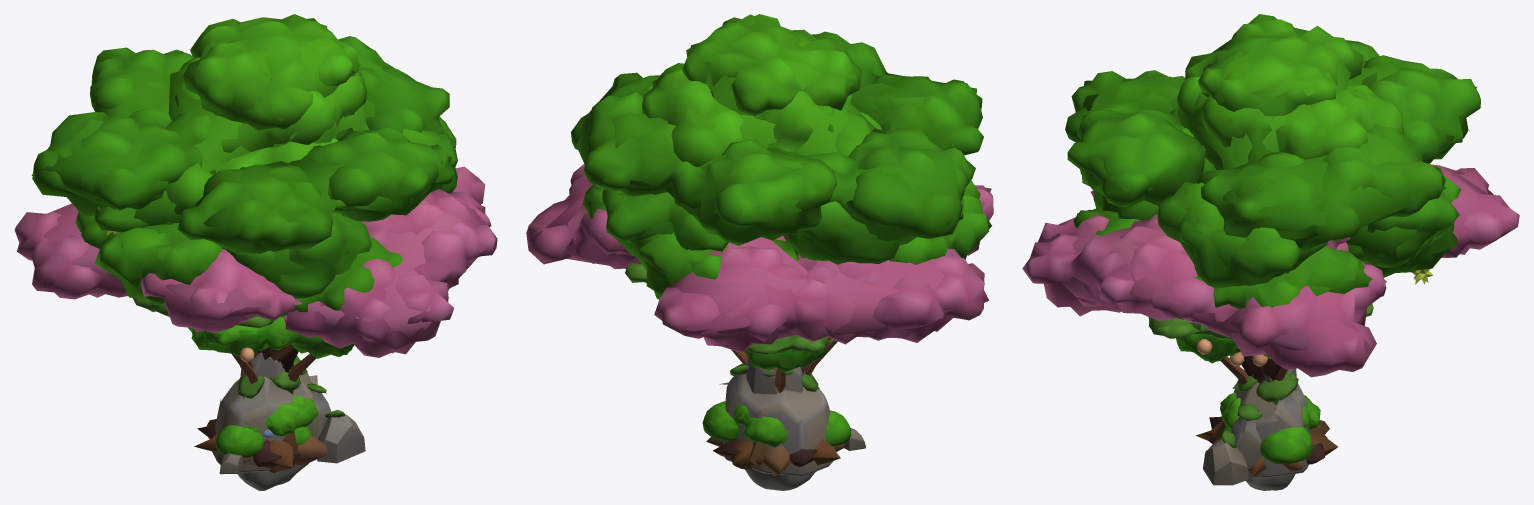
Rendered from nature.glb.
The picture shows the model from 3 angles, left to right: view 1: azimuth 30°, elevation 25°; view 2: azimuth 150°, elevation 25°; view 3: azimuth 270°, elevation 25°; orthographic projection.
Visible parts, largest first — view 1: tree_broadleaf_b, tree_sakura, tree_broadleaf_a, tree_broadleaf_b_mid, tree_chestnut, tree_sakura_mid, rock_a, tree_broadleaf_a_mid, tree_peach, bush_b, rock_b, tree_peach_mid (+7 smaller); view 2: tree_broadleaf_b, tree_sakura, tree_broadleaf_a, tree_sakura_mid, tree_broadleaf_b_mid, tree_chestnut, rock_a, tree_broadleaf_a_mid, bush_b, tree_maple, rock_a_mid, rock_b (+7 smaller); view 3: tree_broadleaf_b, tree_sakura, tree_broadleaf_a, tree_broadleaf_b_mid, tree_chestnut, tree_sakura_mid, tree_broadleaf_a_mid, rock_a, bush_b, tree_peach, rock_b, tree_chestnut_mid (+5 smaller).
Boxes of the visible parts, x1,y1,x2,y2 form: tree_broadleaf_b: (32, 14, 454, 465); tree_sakura: (14, 166, 497, 470); tree_broadleaf_a: (94, 57, 457, 454); tree_broadleaf_b_mid: (31, 18, 451, 253); tree_chestnut: (75, 138, 402, 472); tree_sakura_mid: (42, 192, 485, 462); rock_a: (212, 356, 365, 474); tree_broadleaf_a_mid: (97, 68, 452, 281); tree_peach: (191, 316, 349, 382); bush_b: (216, 425, 312, 456); rock_b: (240, 352, 330, 465); tree_peach_mid: (191, 319, 353, 378); tree_broadleaf_b: (571, 14, 983, 476); tree_sakura: (526, 164, 993, 466); tree_broadleaf_a: (602, 63, 964, 465); tree_sakura_mid: (529, 187, 991, 354); tree_broadleaf_b_mid: (576, 14, 976, 467); tree_chestnut: (582, 94, 991, 469); rock_a: (723, 363, 865, 476); tree_broadleaf_a_mid: (618, 79, 881, 263); bush_b: (702, 401, 851, 446); tree_maple: (625, 263, 831, 368); rock_a_mid: (719, 364, 865, 476); rock_b: (746, 355, 804, 394); tree_broadleaf_b: (1065, 14, 1480, 471); tree_sakura: (1022, 168, 1519, 464); tree_broadleaf_a: (1093, 76, 1458, 440); tree_broadleaf_b_mid: (1081, 27, 1476, 438); tree_chestnut: (1073, 108, 1461, 476); tree_sakura_mid: (1028, 164, 1493, 443); tree_broadleaf_a_mid: (1167, 79, 1440, 286); rock_a: (1203, 370, 1309, 485); bush_b: (1220, 425, 1312, 464); tree_peach: (1176, 333, 1283, 382); rock_b: (1231, 368, 1296, 477); tree_chestnut_mid: (1212, 190, 1452, 438).
Bounding box in the file's own units: 9.74 × 9.68 × 9.63.
